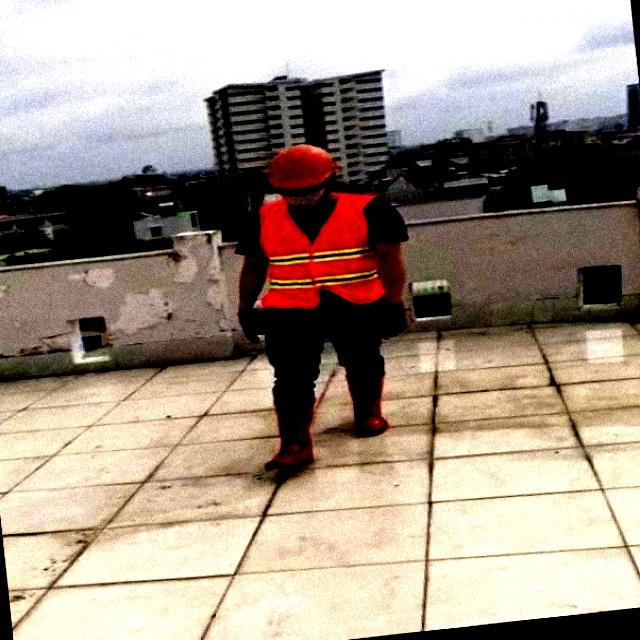helmet: (259, 140, 340, 190)
safety_vest: (256, 190, 394, 308)
